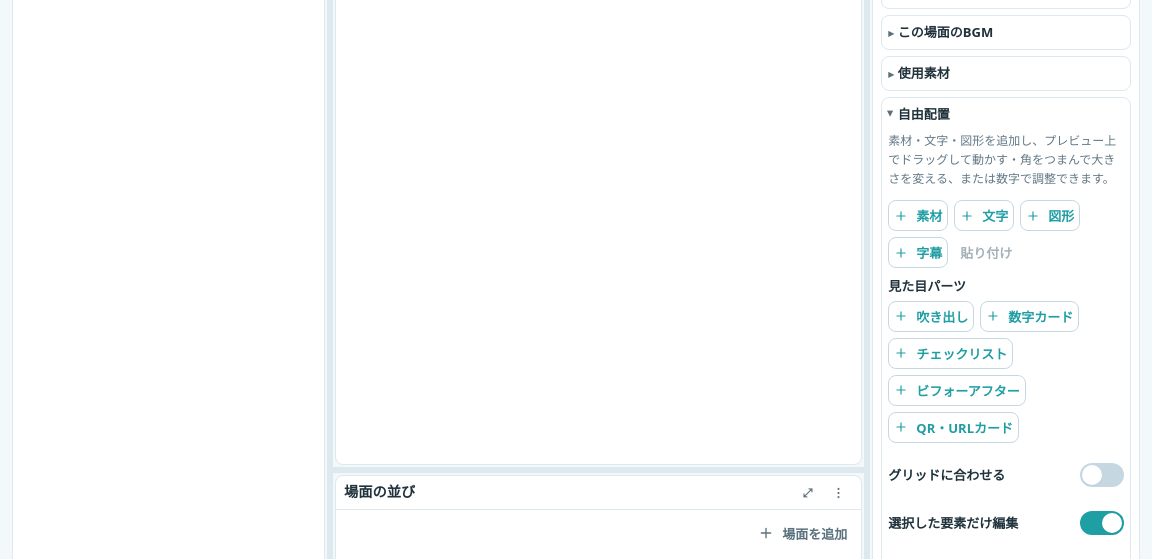
Test: SceneEditScreen 見た目パーツは最初からグループ化して追加（#525-3） › パーツを追加すると要素がグループ化され、グループ（パーツ名）が選択される
This screenshot has width=1152, height=559.
(page scrolled)
Click the button "数字カード".
click(1030, 316)  # box [980,301,1079,332]
(page scrolled)
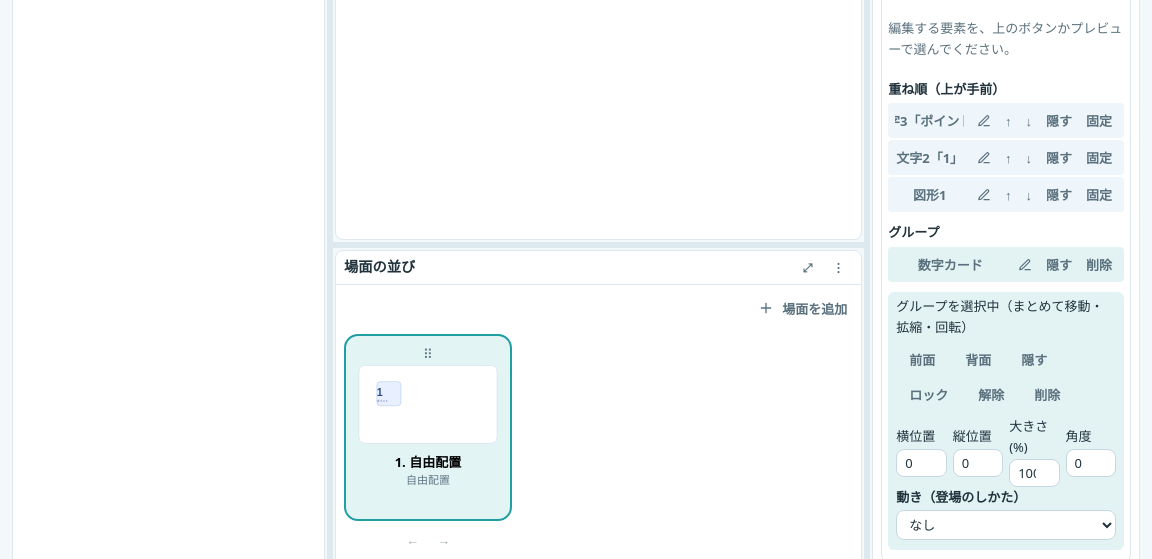
Now the text "グループを選択中（まとめて移動・拡縮・回転）" is shown, box [896,296,1116,338]
